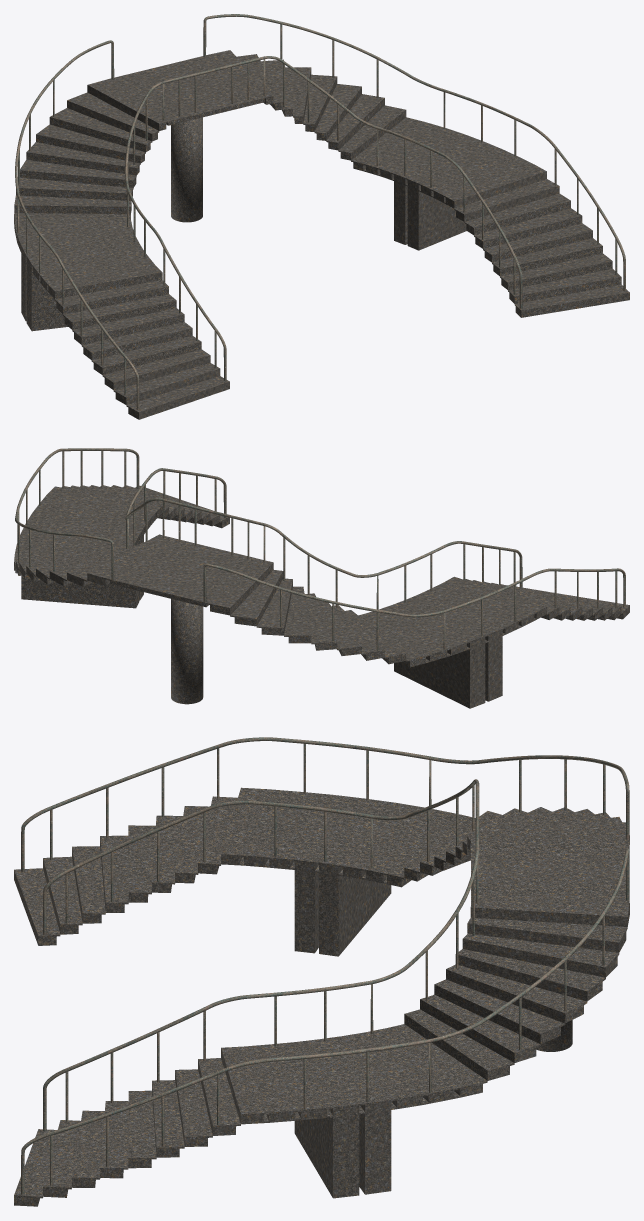
Rendered from tizi.glb.
3 views of the same model, one above another, from view 1: azimuth 30°, elevation 25°; view 2: azimuth 150°, elevation 25°; view 3: azimuth 270°, elevation 25° (orthographic). The views are drawn at different scales.
Visible parts, largest first — view 1: steps_1, handrail_0; view 2: steps_1, handrail_0; view 3: steps_1, handrail_0.
Boxes of the visible parts, left/top/right/bottom form: steps_1: left=14, top=50, right=629, bottom=419; handrail_0: left=15, top=14, right=625, bottom=409; steps_1: left=14, top=485, right=629, bottom=708; handrail_0: left=15, top=448, right=625, bottom=650; steps_1: left=14, top=787, right=629, bottom=1206; handrail_0: left=21, top=737, right=629, bottom=1194.
Bounding box in the file's own units: 11.91 × 3.78 × 9.32.
2 materials, 2 textured.
